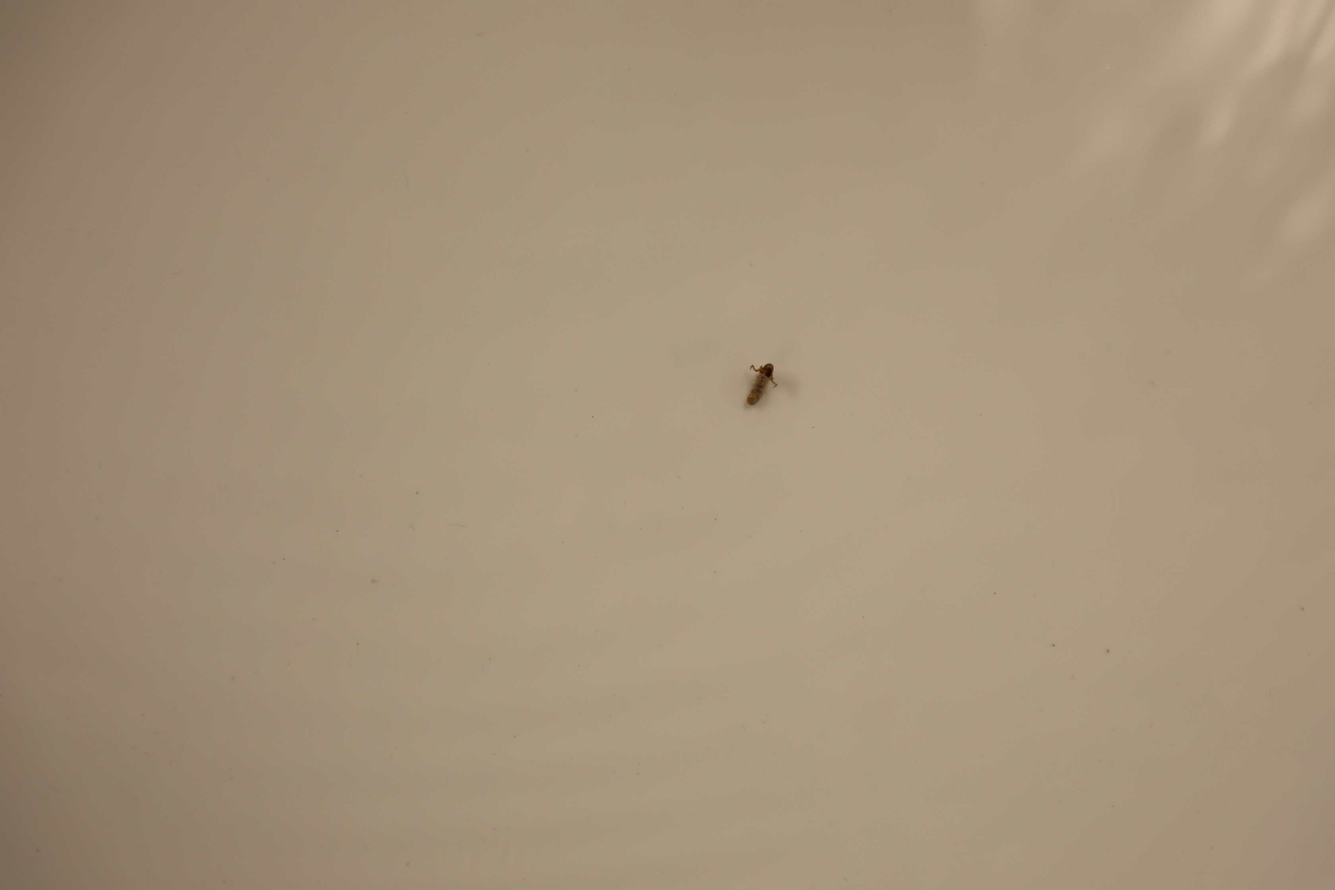Cadisfly: (740, 355, 781, 414)
